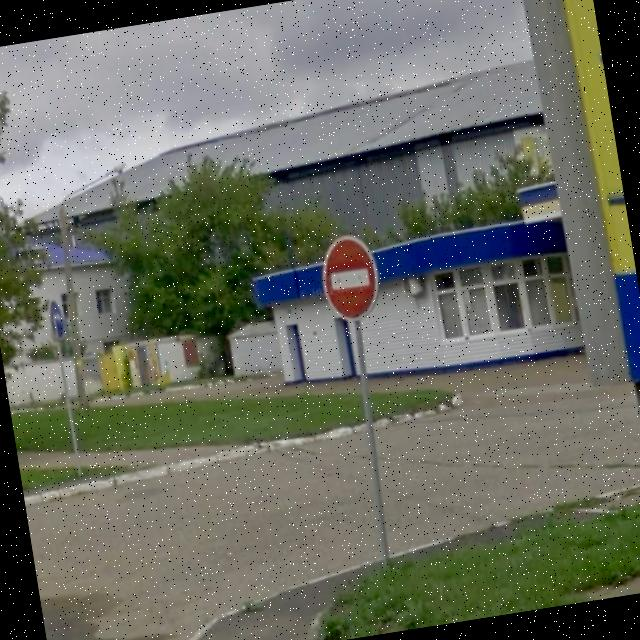Zakaz wjazdu: (312, 224, 389, 332)
